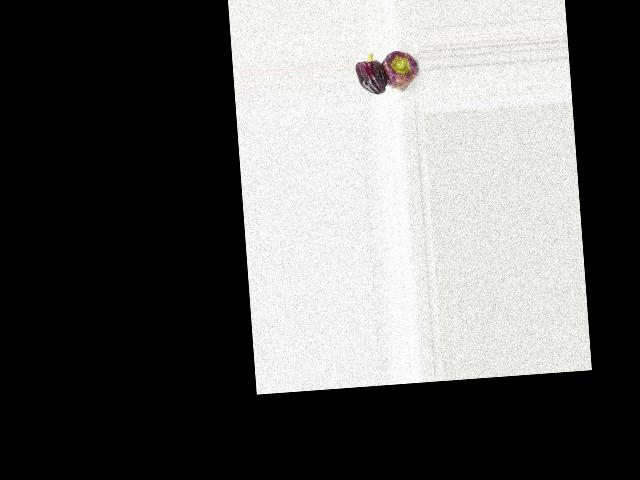bell_pepper: (379, 41, 421, 100)
